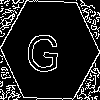G: (25, 25, 61, 73)
